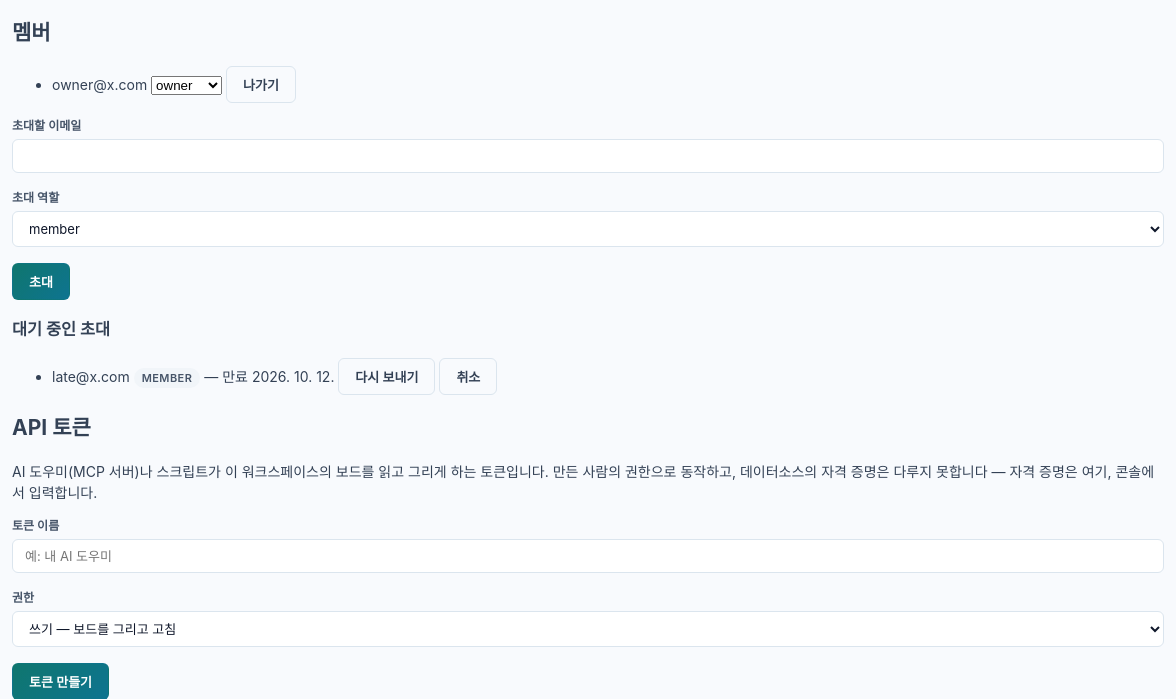
SettingsPage › resends a pending invitation and says it was emailed again
The image size is (1176, 699).
Click the button with aria-label "late@x.com 초대 다시 보내기".
click(387, 376)  # box [338, 358, 436, 395]
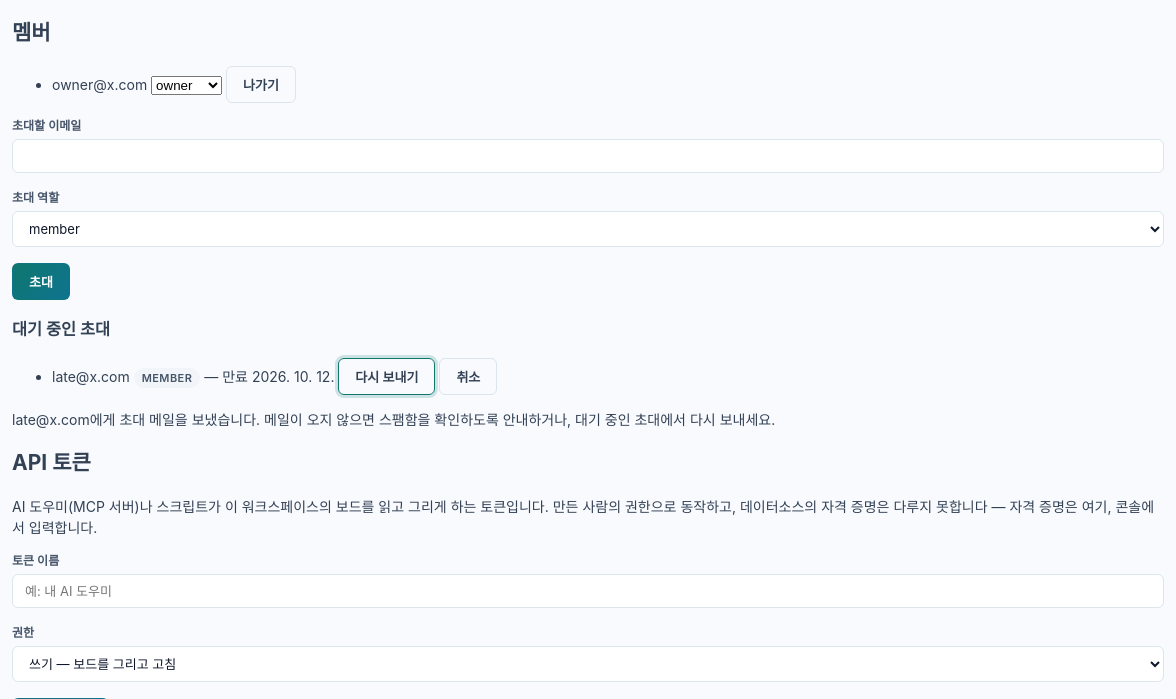
Now the text "late@x.com에게 초대 메일을 보냈습니다. 메일이 오지 않으면 스팸함을 확인하도록 안내하거나, 대기 중인 초대에서 다시 보내세요." is shown, box [12, 411, 775, 428]
